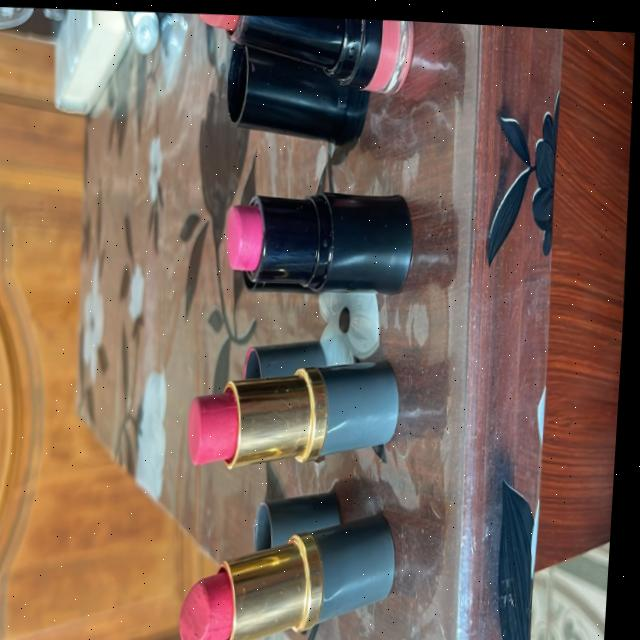lip stick: (176, 314, 437, 520), (175, 7, 441, 169), (209, 163, 458, 323), (166, 516, 426, 640)
